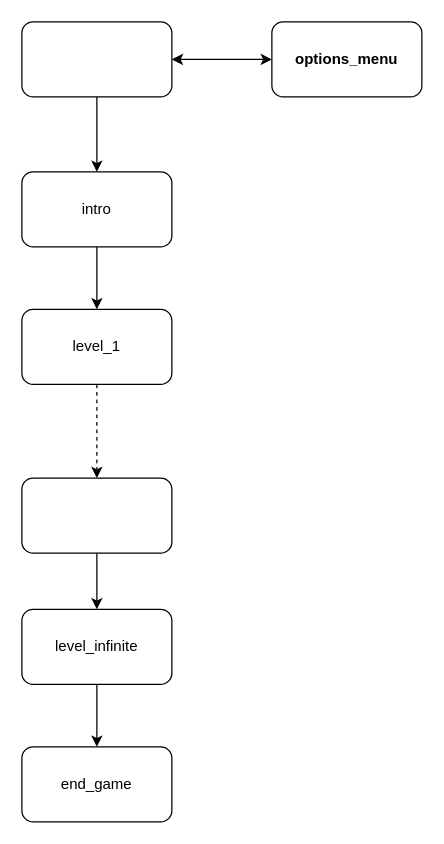
Some shapes in this 444 by 844 pixel diagram are drawn without their labels. Here are the shapes that lost their labels. From the top down, the centre of each, then its label:
At [96,59]: "main_menu".
At [96,515]: "level_5".
